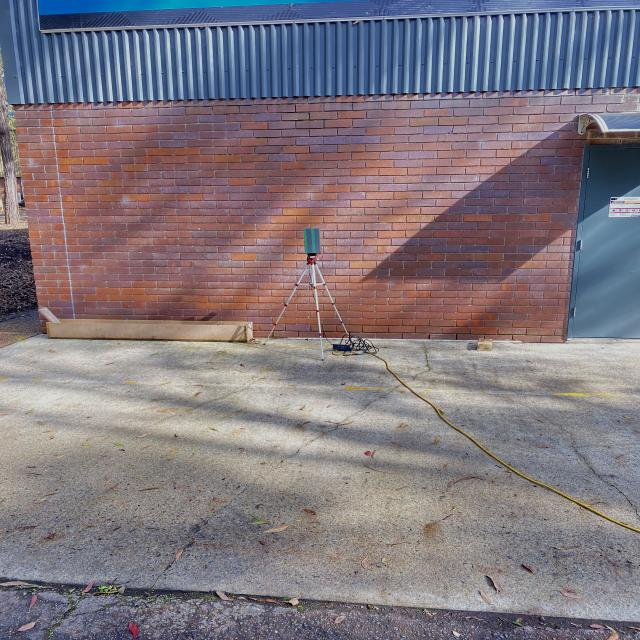matrix: (301, 227, 325, 254)
